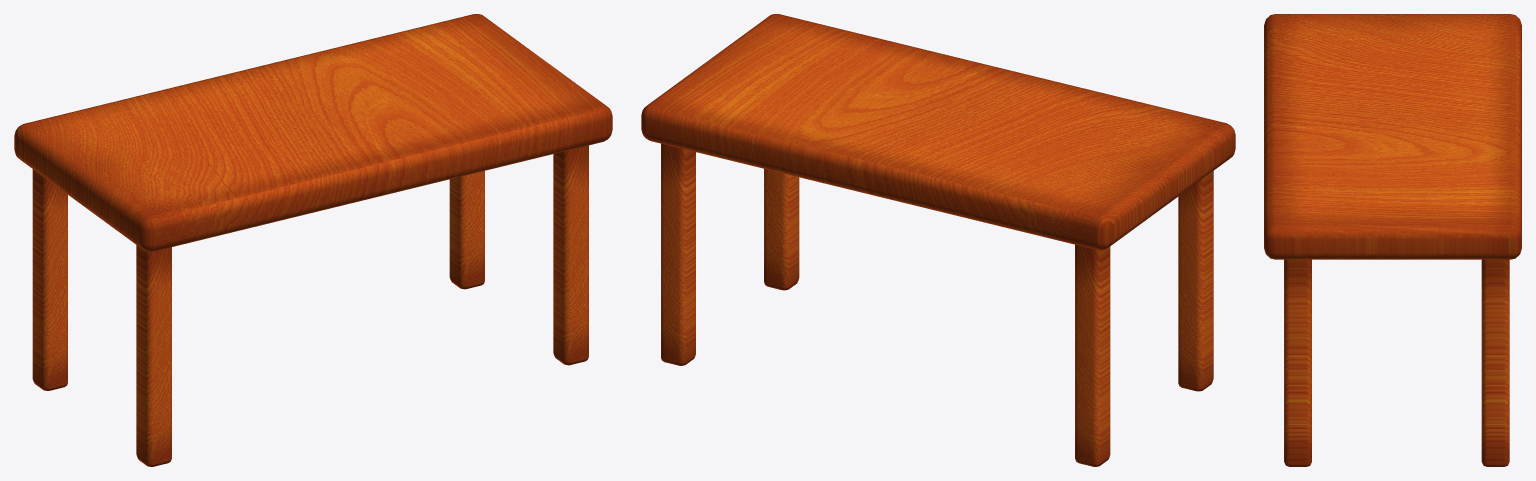
The model's file is normaldesk.fbx.
3 views of the same model, side by side, from view 1: azimuth 30°, elevation 25°; view 2: azimuth 150°, elevation 25°; view 3: azimuth 270°, elevation 25° (orthographic). The views are drawn at different scales.
Visible parts, largest first — view 1: normal_desk; view 2: normal_desk; view 3: normal_desk.
Part boxes in pixels (x1,y1,x2,y2): normal_desk: [14, 14, 612, 466]; normal_desk: [641, 14, 1235, 466]; normal_desk: [1264, 14, 1521, 466].
Size of the model in its own units: 24.62 by 12.95 by 12.25.
1 material, 1 textured.
